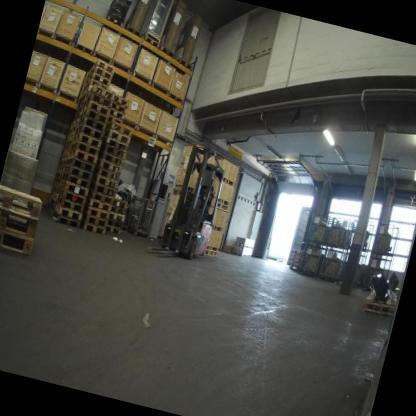forklift: (142, 131, 237, 272)
pallet: (0, 184, 48, 221), (358, 279, 400, 317), (0, 228, 38, 256), (0, 212, 39, 237), (73, 115, 106, 141), (86, 58, 117, 84), (49, 209, 83, 231), (77, 107, 108, 131), (81, 92, 113, 115), (81, 76, 114, 98), (101, 117, 133, 138), (68, 140, 100, 160), (66, 148, 98, 168), (64, 155, 96, 175), (72, 123, 102, 144), (83, 86, 116, 105), (78, 103, 109, 122), (56, 187, 87, 206), (101, 129, 132, 148), (71, 132, 100, 152), (63, 163, 95, 181), (101, 12, 126, 35), (83, 72, 111, 92), (52, 204, 83, 222), (94, 149, 125, 167), (87, 65, 116, 84), (120, 22, 145, 44), (58, 180, 90, 197), (89, 172, 119, 190), (54, 196, 85, 213), (98, 143, 128, 160), (138, 32, 162, 53), (94, 158, 123, 175), (172, 57, 196, 77), (61, 173, 91, 189), (93, 166, 121, 183), (88, 179, 116, 196), (85, 197, 112, 213), (98, 138, 128, 152), (88, 189, 115, 204), (84, 207, 110, 222), (157, 45, 176, 64), (81, 222, 105, 236), (211, 199, 230, 216), (82, 215, 106, 228), (104, 106, 124, 121), (201, 248, 220, 263), (109, 94, 129, 108), (107, 100, 128, 112), (109, 205, 128, 217), (105, 226, 122, 238), (111, 198, 129, 209), (108, 212, 126, 223), (106, 218, 124, 229), (103, 116, 123, 125), (170, 187, 189, 196), (66, 127, 75, 139), (69, 120, 77, 132), (61, 152, 69, 164), (289, 256, 301, 263), (288, 260, 300, 267), (65, 136, 72, 147), (57, 166, 66, 174), (292, 249, 303, 255), (291, 253, 302, 259), (57, 172, 64, 181), (60, 160, 67, 168), (290, 265, 299, 271), (53, 185, 59, 193), (54, 180, 60, 187), (52, 192, 57, 198)
stillage: (104, 176, 142, 232), (128, 191, 162, 239), (316, 245, 350, 285), (324, 210, 357, 250), (345, 215, 377, 254), (372, 217, 402, 258), (363, 253, 394, 291), (339, 250, 369, 289), (297, 240, 325, 279), (306, 208, 333, 244)
